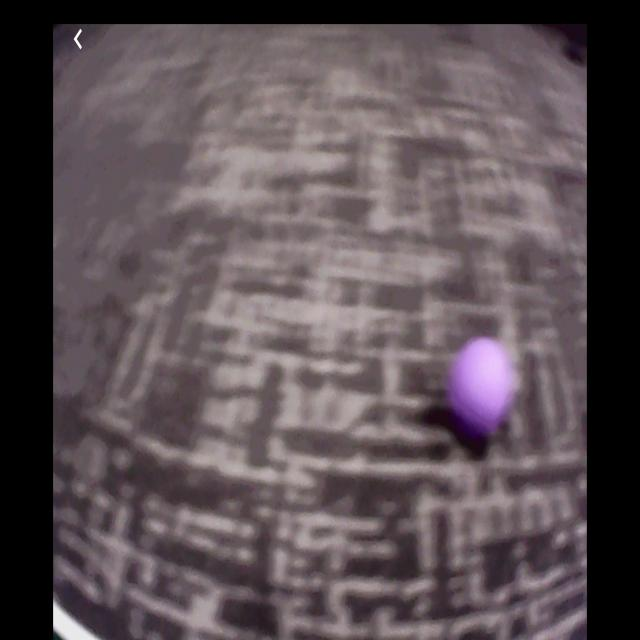ball: (451, 340, 515, 435)
